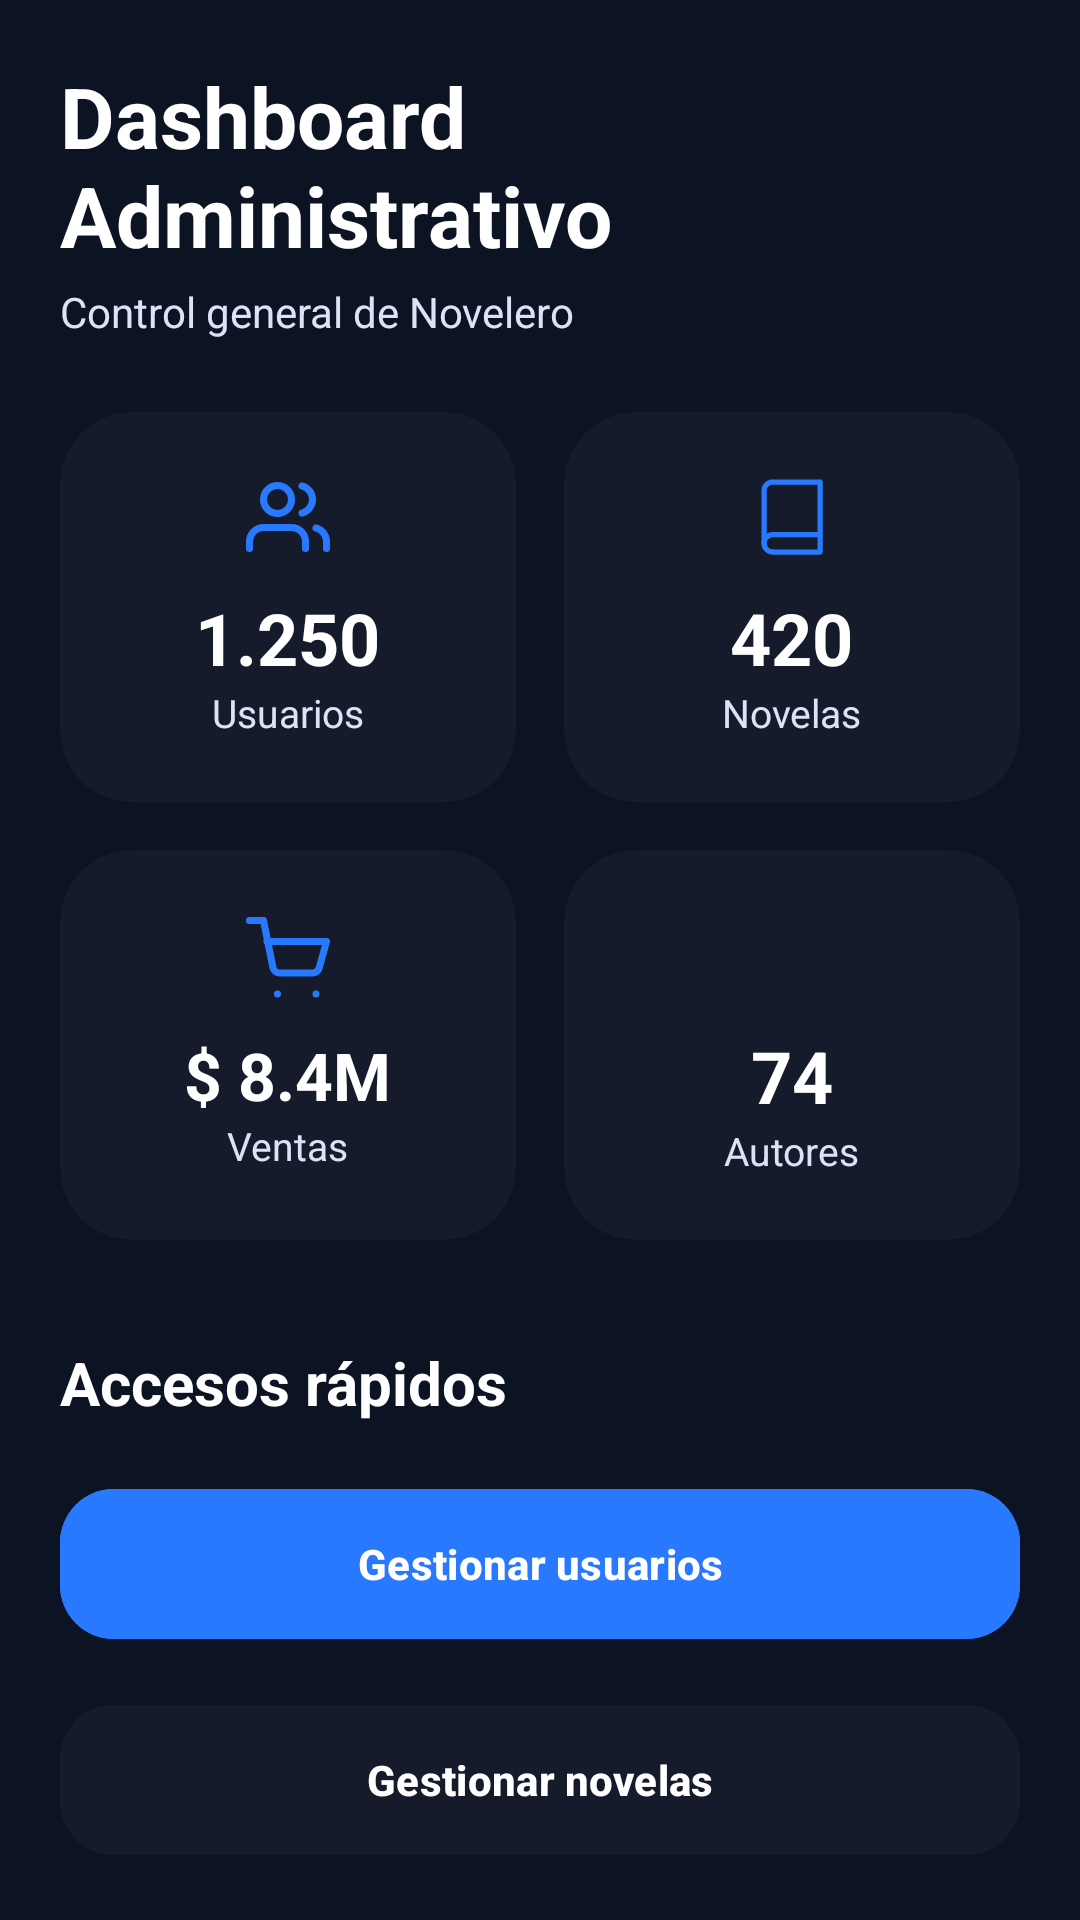

Icons on this 1080 × 1920 Android screen, each with its box as rect(x1, y1, x2, y2):
biblioteca: rect(761, 479, 823, 555)
carrito: rect(246, 917, 330, 998)
